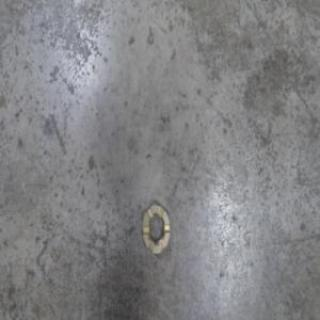Nuttrack_idkeyframe: (140, 198, 170, 256)
